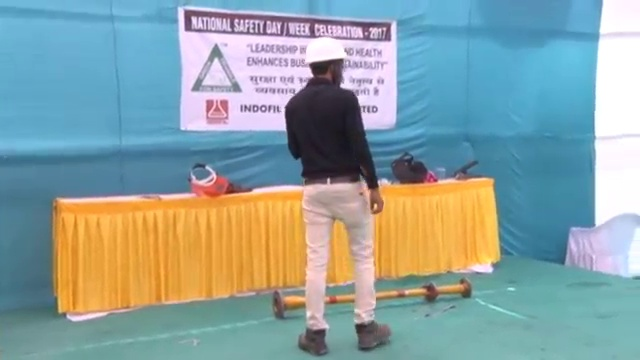helmet: (305, 36, 350, 66)
helmet_on: (304, 36, 349, 85)
person: (282, 36, 393, 355)
